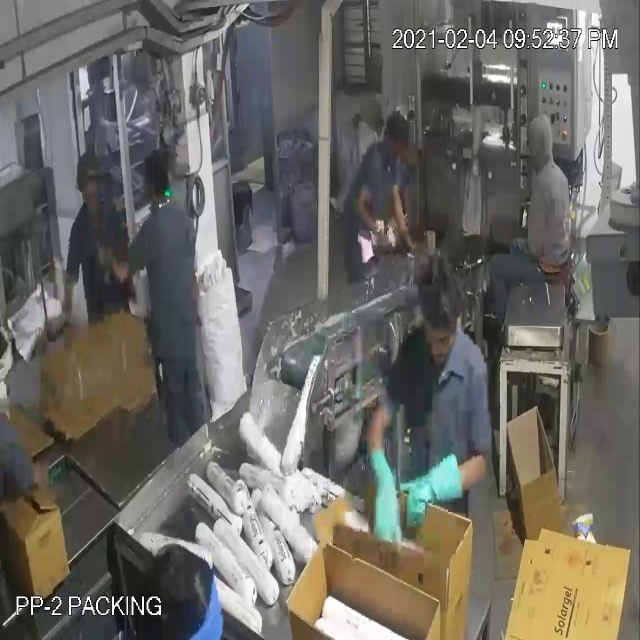Guantes: (361, 420, 406, 564), (403, 438, 468, 537)
Sin_guantes: (47, 252, 84, 356), (389, 171, 420, 272), (357, 161, 382, 250), (100, 232, 132, 292)
